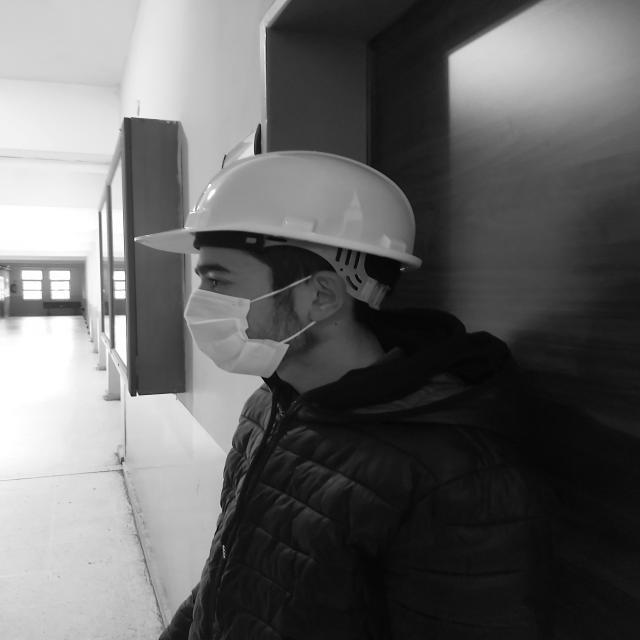safety_helmet: (131, 153, 423, 310)
